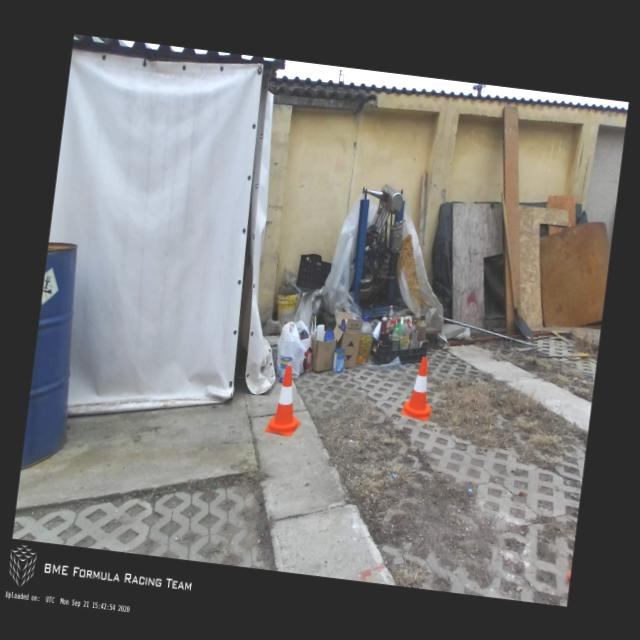orange_cone: (264, 363, 308, 438), (399, 354, 438, 422)
